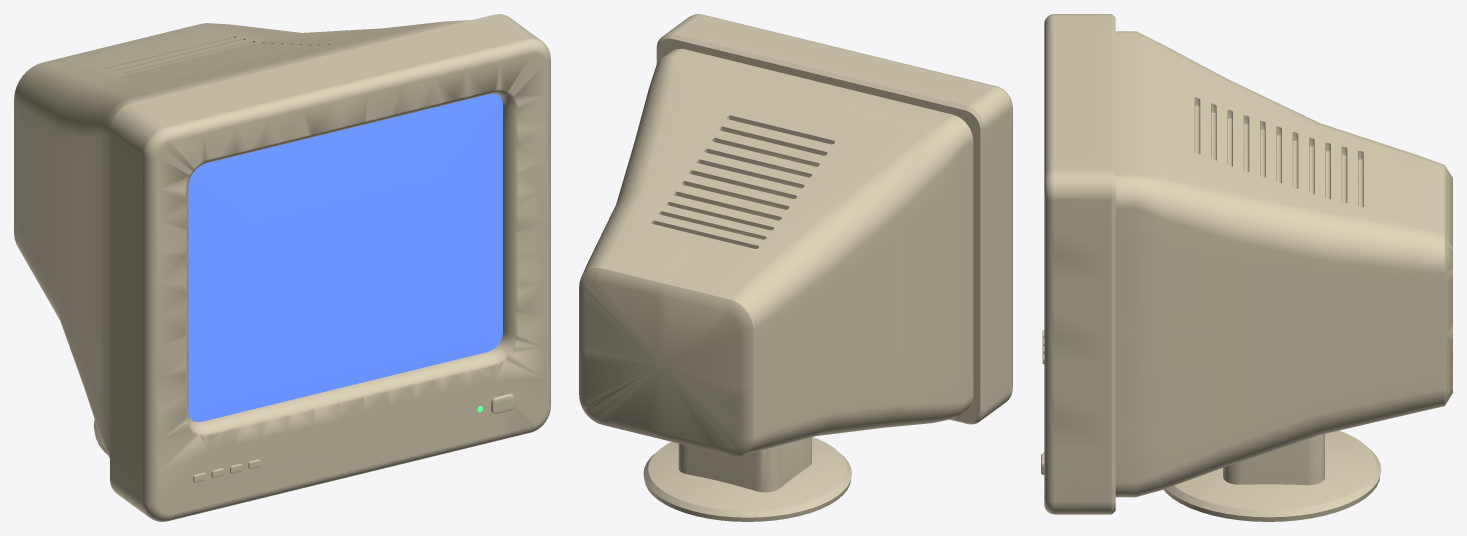
The model's file is SM_CRTMonitor.glb.
The picture shows the model from 3 angles, left to right: view 1: azimuth 30°, elevation 25°; view 2: azimuth 150°, elevation 25°; view 3: azimuth 270°, elevation 25°; orthographic projection. The views are drawn at different scales.
Parts seen in each view (by area): view 1: SM_CRTMonitor; view 2: SM_CRTMonitor; view 3: SM_CRTMonitor.
Boxes of the visible parts, x1,y1,x2,y2 form: SM_CRTMonitor: [14, 14, 550, 521]; SM_CRTMonitor: [579, 14, 1012, 521]; SM_CRTMonitor: [1041, 14, 1452, 521].
Bounding box in the file's own units: 0.4 × 0.415 × 0.403.
